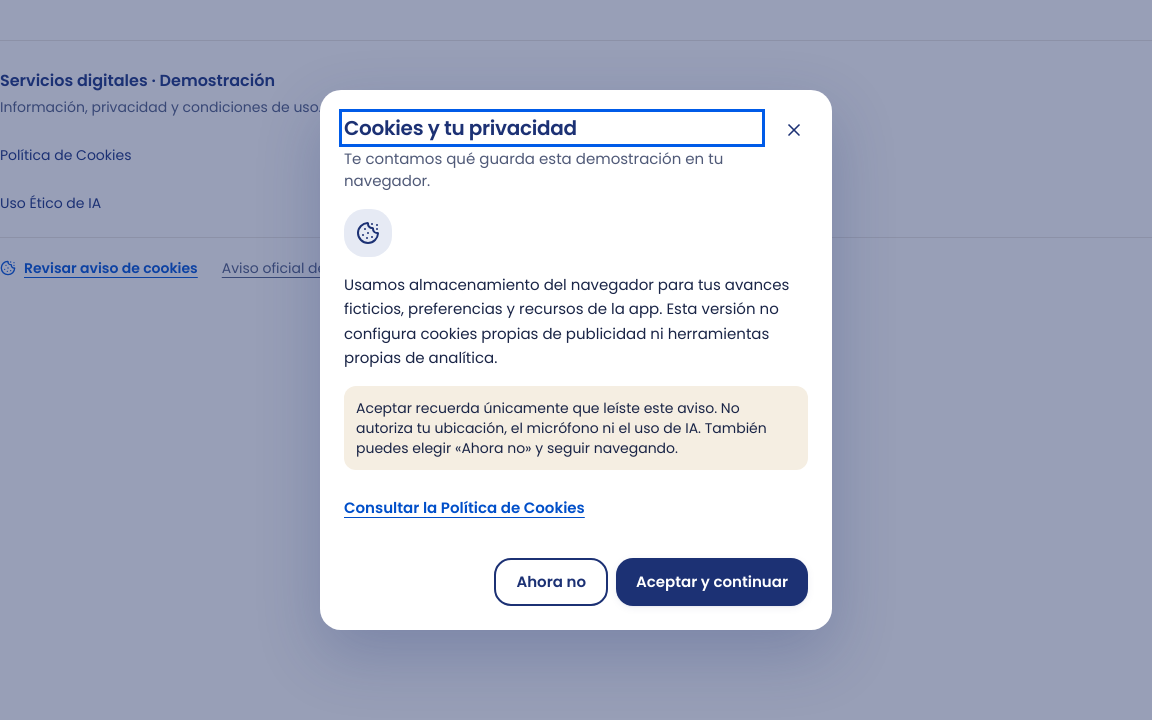
Test case: Footer y aviso de cookies › permite aplazar sin registrar aceptación y reabrir el aviso con retorno del foco
Click the button "Ahora no".
click(551, 582)  # box [494,558,608,606]
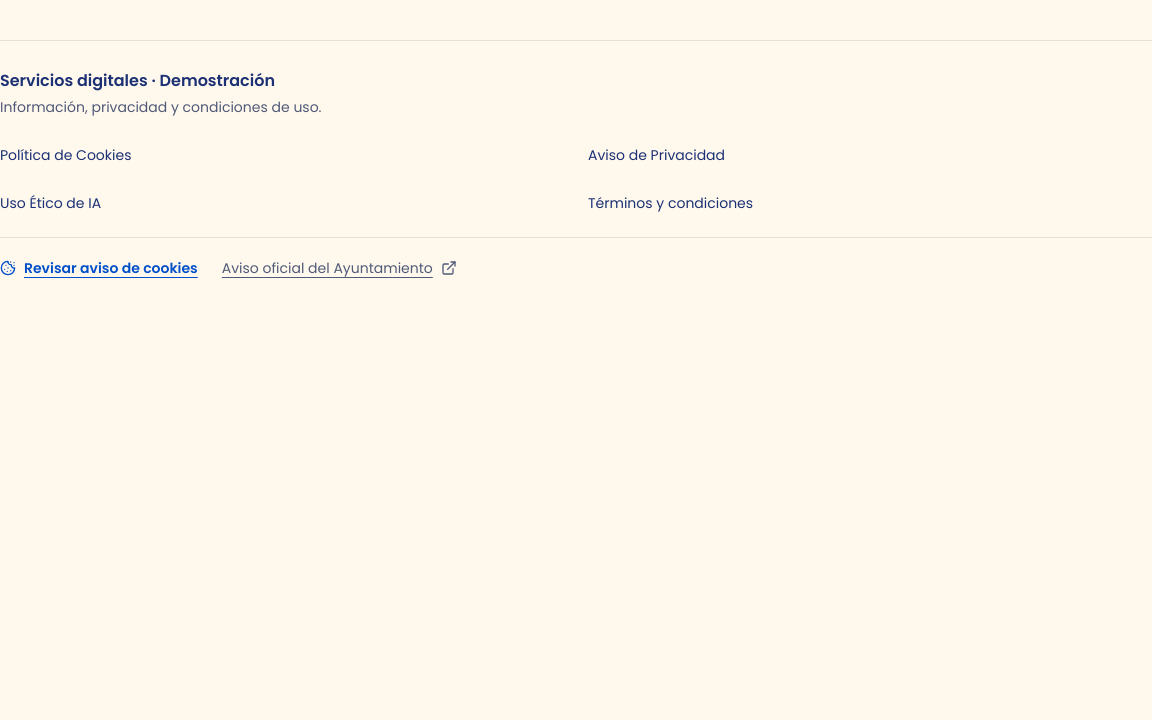
Click the button "Revisar aviso de cookies".
click(99, 268)  # box [0,246,198,290]
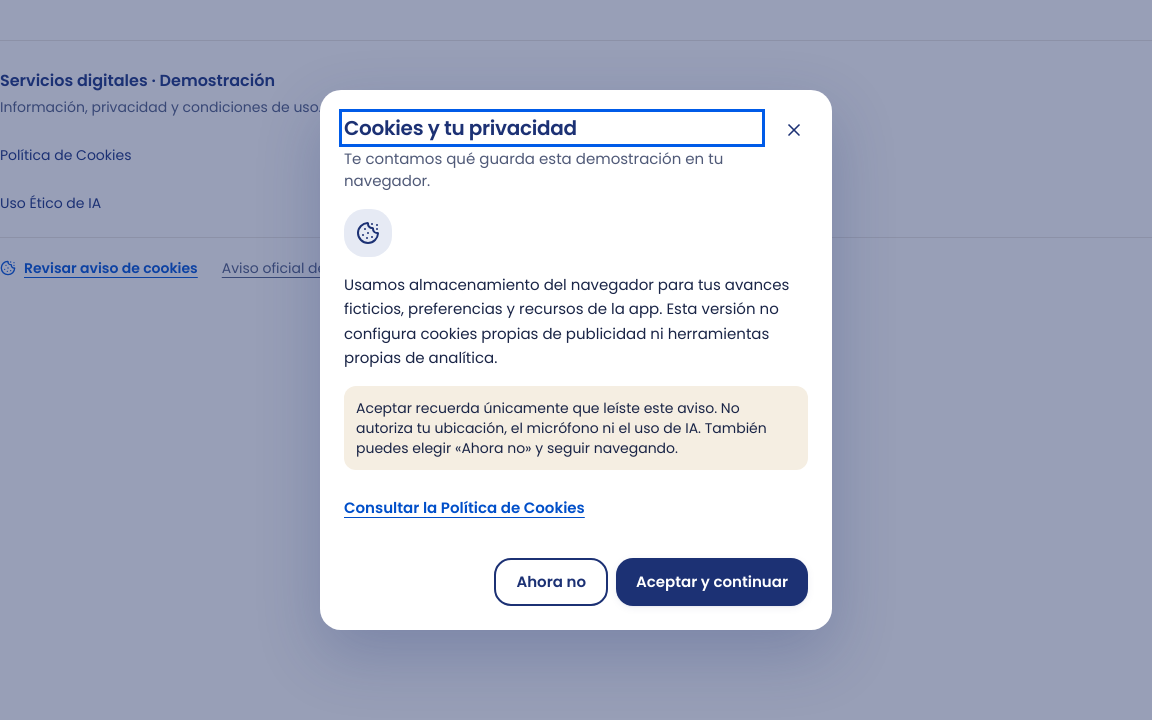
Press Escape
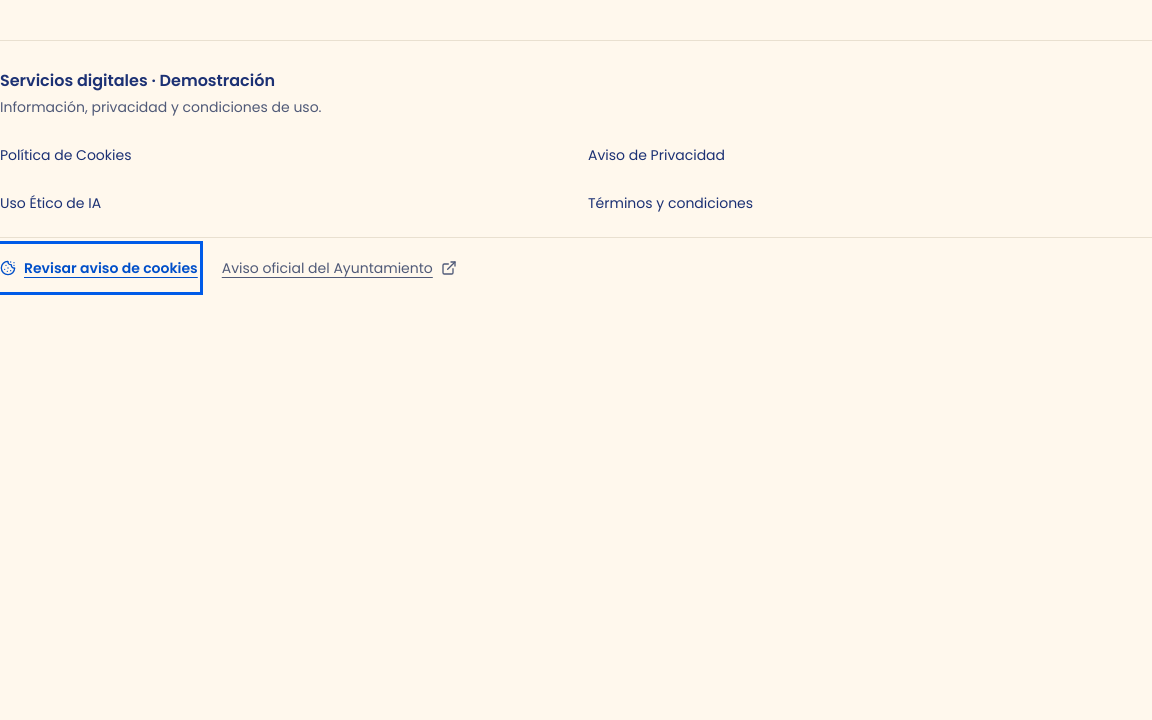
Expected: the dialog is gone
